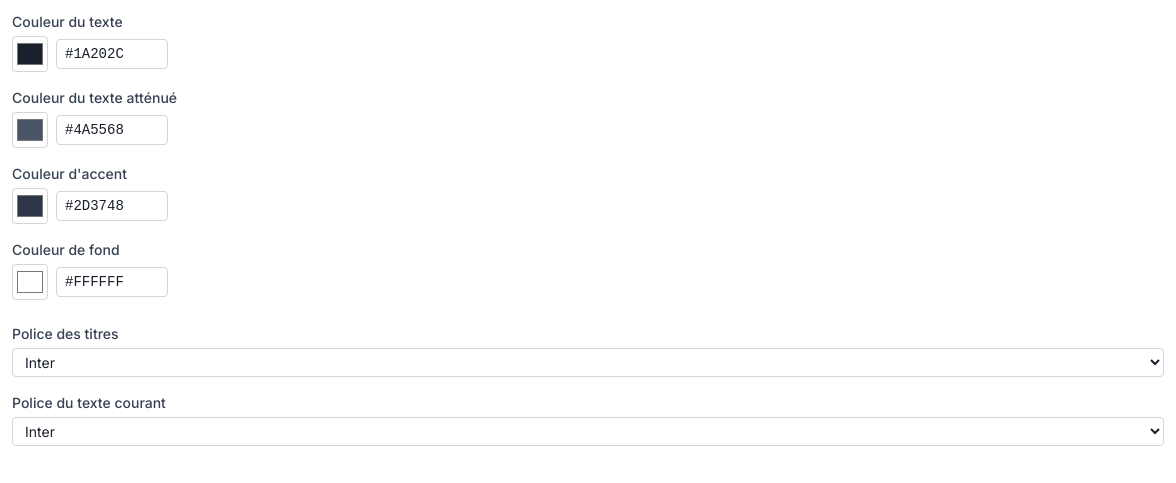
Test case: ThemeEditor — M3-T09 (éditeur de thème) › récupère après erreur : un hex valide efface l'alerte et propage
Replace the text in the field labelled "Couleur de fond" with "nope" at (112, 282), box [56, 267, 168, 297]
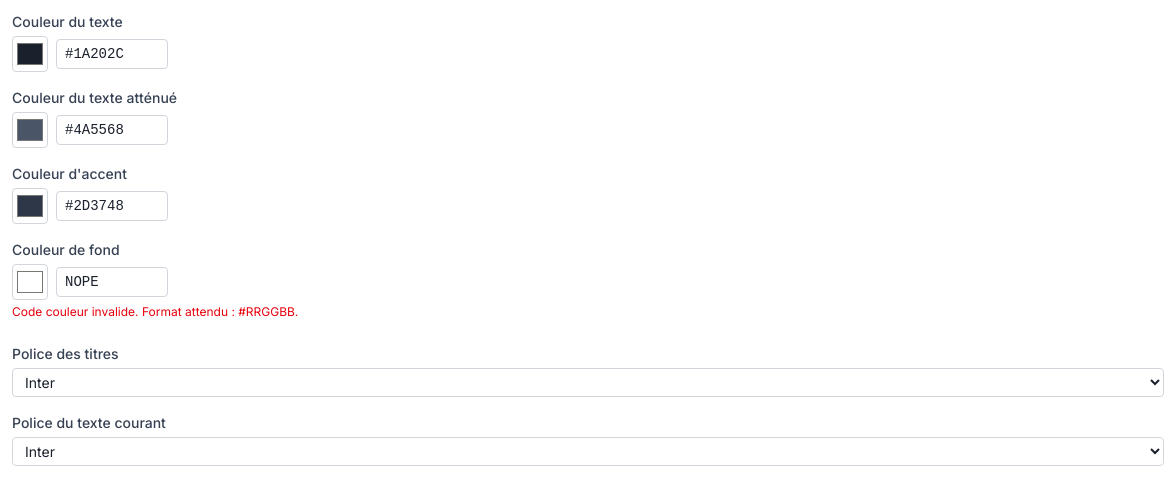
Expected: the message "Code couleur invalide. Format attendu : #RRGGBB." is shown, [12, 304, 298, 319]
Replace the text in the field labelled "Couleur de fond" with "#ABCDEF" at (112, 282), box [56, 267, 168, 297]
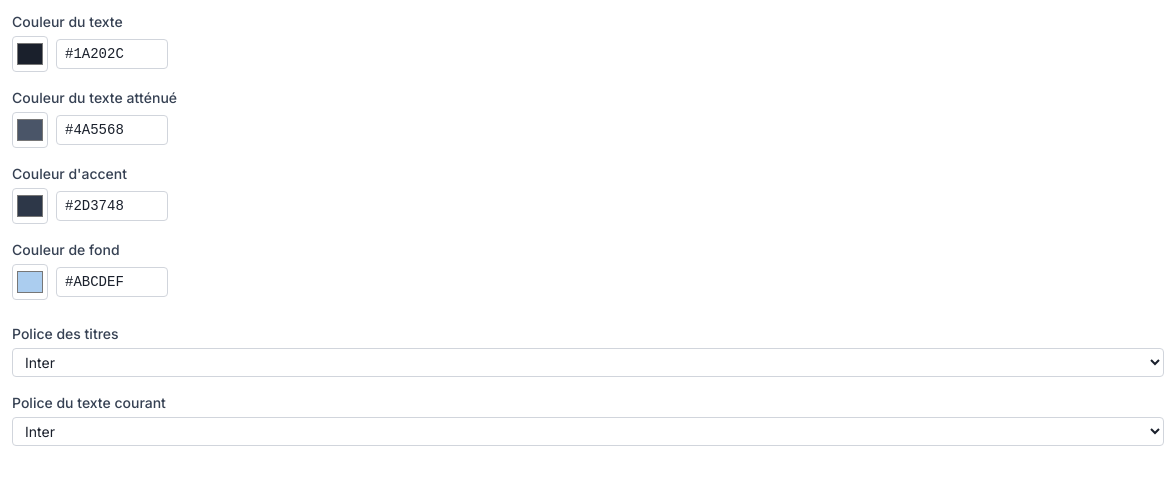
Expected: the message "Code couleur invalide. Format attendu : #RRGGBB." is gone
